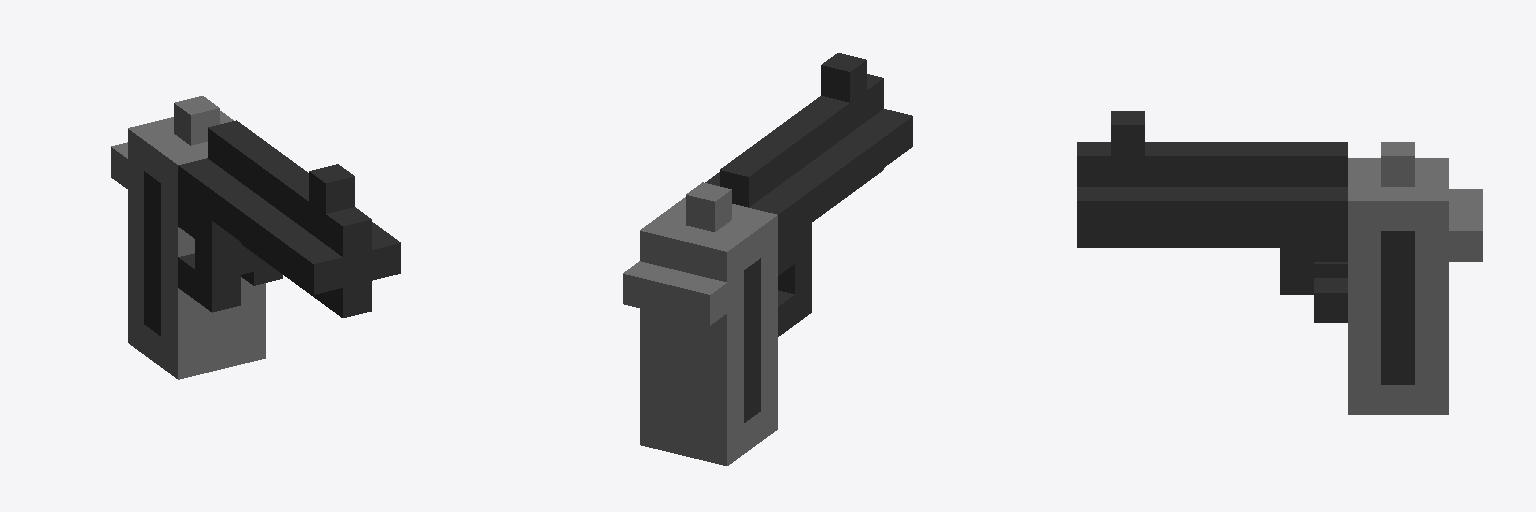
3 views of the same model, side by side, from view 1: azimuth 30°, elevation 25°; view 2: azimuth 150°, elevation 25°; view 3: azimuth 270°, elevation 25° (orthographic).
Parts seen in each view (by area): view 1: object 1; view 2: object 1; view 3: object 1.
Part boxes in pixels (bbox=[...]): object 1: bbox=[111, 96, 400, 379]; object 1: bbox=[623, 53, 912, 465]; object 1: bbox=[1077, 111, 1482, 414].
Bounding box in the file's own units: 0.3 × 0.9 × 1.2.
1 materials, 1 textured.